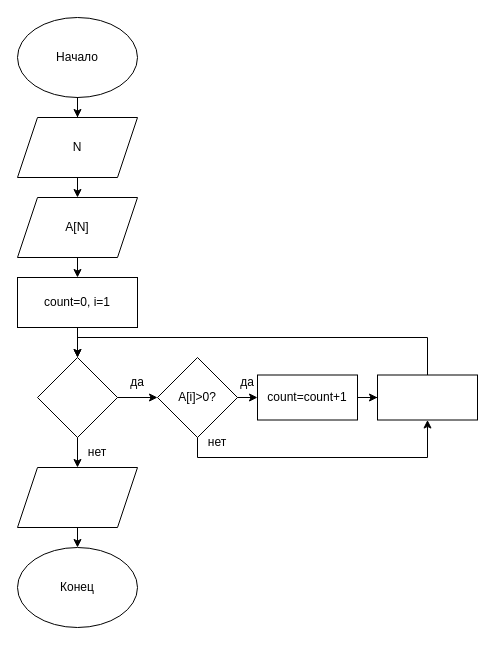
The diagram is 495 pixels wide and 645 high, and some of its shapes have lost their labels. The shapes that lost their labels are listed below. From the top down, each one's centre as x and y in pixels, then its label:
At [77,397]: "i<=N?".
At [427,397]: "i=i+1".
At [77,497]: "count".
